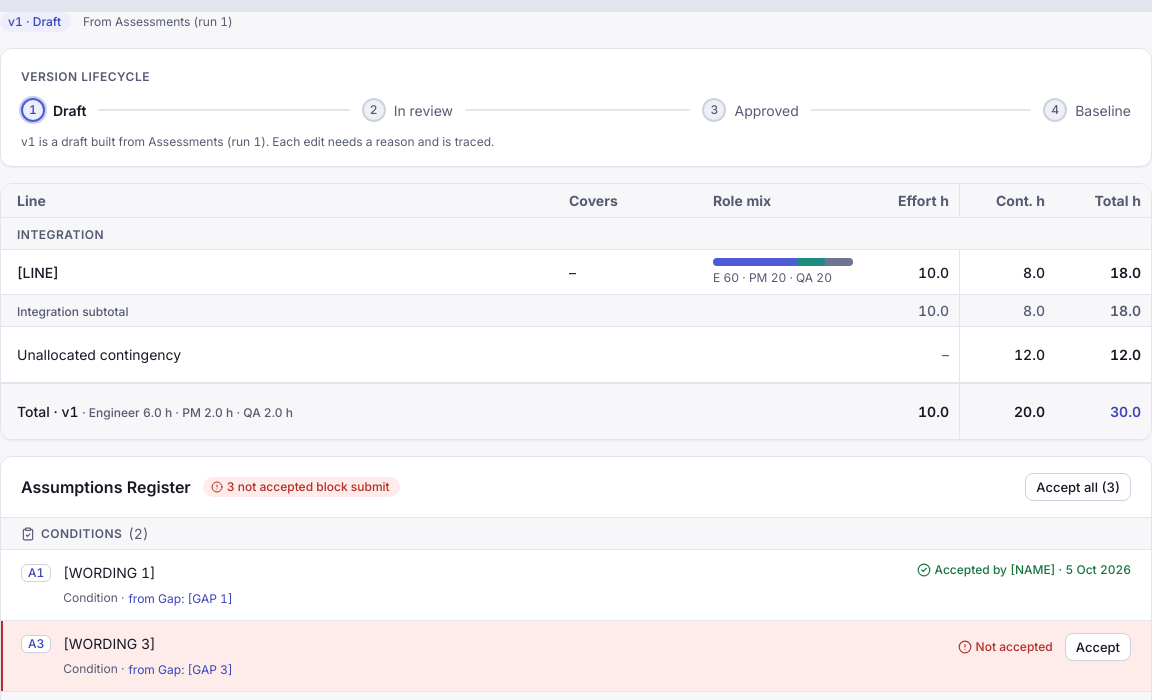
Test: the Assumptions Register › on 412 says who changed it, with Reload
Click the button with aria-label "Accept: [WORDING 3]".
click(1098, 647)  # box [1065,633,1131,661]
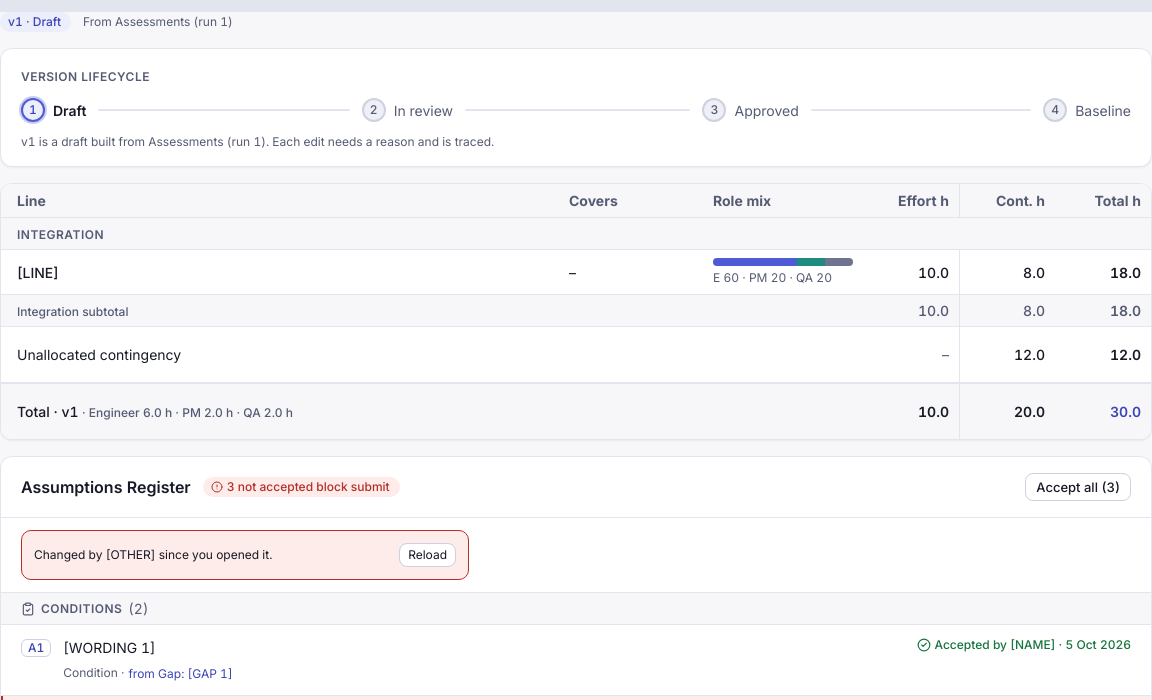
Now the text "Changed by [OTHER] since you opened it." is shown, box [34,547,272,563]
Click the button "Reload".
click(428, 555)  # box [399,543,456,567]
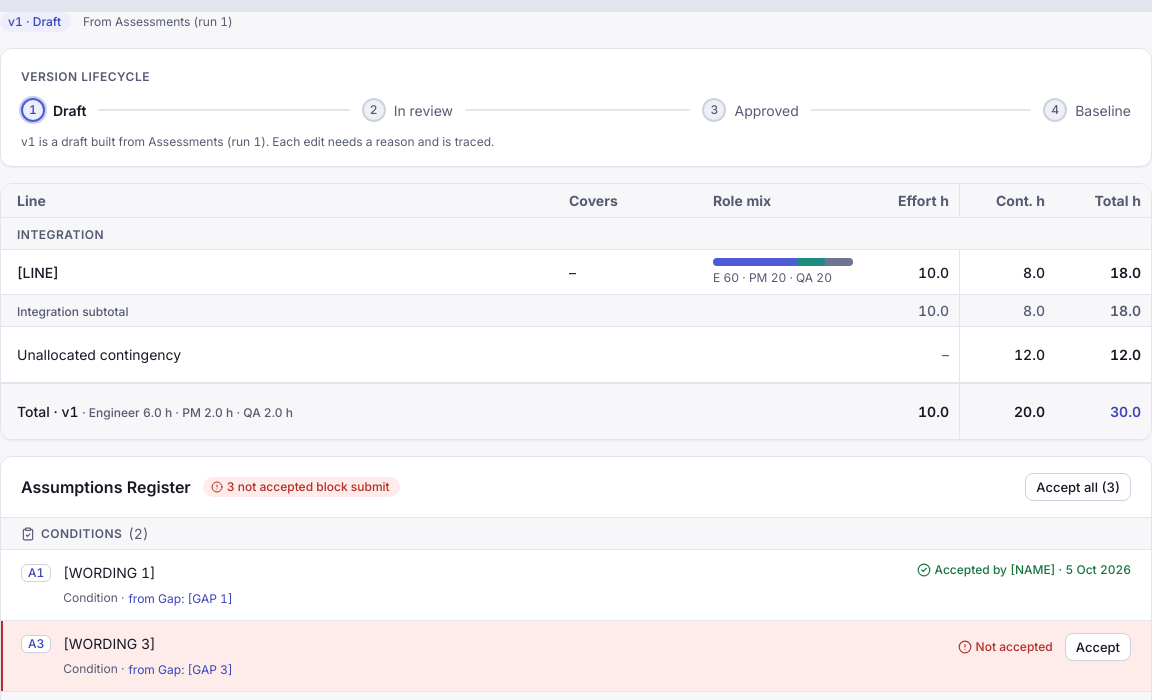
Now the text "Changed by" is gone
